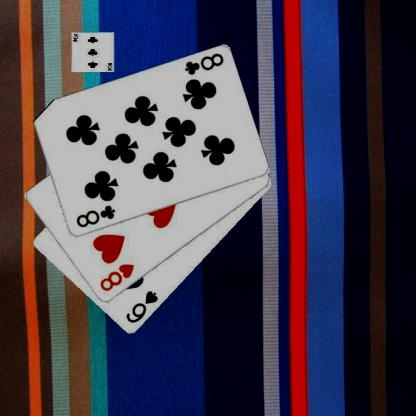6S: (123, 288, 160, 325)
8C: (74, 203, 116, 229), (182, 51, 224, 76)
8H: (97, 261, 136, 293)
